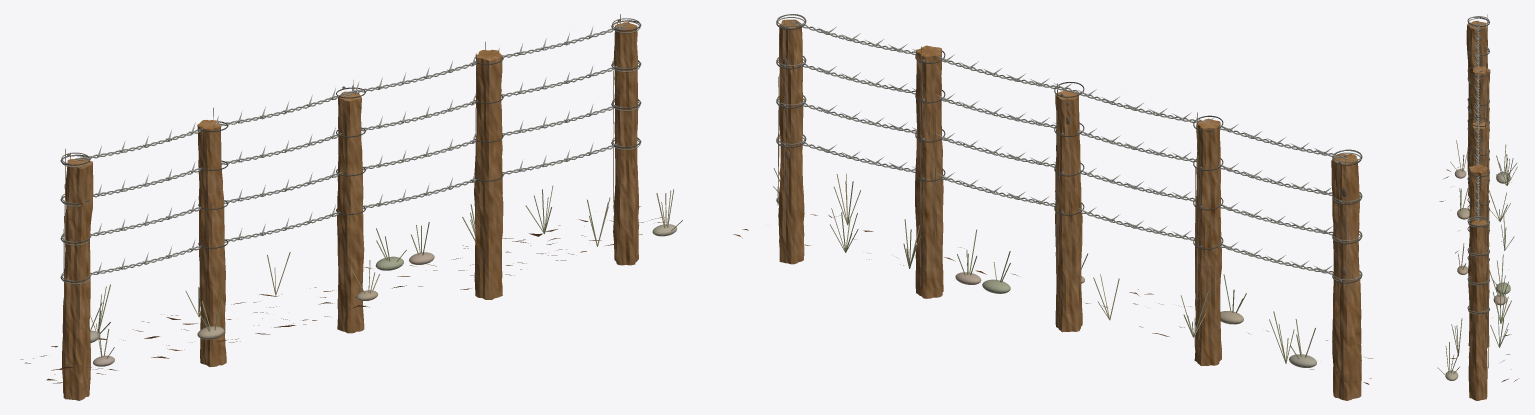
The model's file is cerca_arame_farpado_3D.glb.
3 renders of one model, left to right at view 1: azimuth 30°, elevation 25°; view 2: azimuth 150°, elevation 25°; view 3: azimuth 270°, elevation 25°, orthographic. The views are drawn at different scales.
Parts seen in each view (by area): view 1: Post_04, Post_01, Post_03, Post_02, Post_05, GroundBase_DirtPatch; view 2: Post_04, Post_01, Post_02, Post_03, Post_05; view 3: Post_05, Post_04, Post_01, Post_02, Post_03, SertaoStone_12, BarkGroove_05_06, SertaoStone_00, SertaoStone_10, SertaoStone_04, SertaoStone_06, BarkGroove_05_01 (+3 smaller).
Boxes of the visible parts, left/top/right/bottom form: Post_04: left=474, top=49, right=503, bottom=299; Post_01: left=62, top=158, right=93, bottom=400; Post_03: left=337, top=91, right=364, bottom=333; Post_02: left=197, top=119, right=226, bottom=366; Post_05: left=613, top=22, right=638, bottom=265; GroundBase_DirtPatch: left=20, top=206, right=665, bottom=383; Post_04: left=915, top=45, right=943, bottom=298; Post_01: left=1331, top=154, right=1361, bottom=400; Post_02: left=1194, top=118, right=1221, bottom=365; Post_03: left=1055, top=90, right=1082, bottom=332; Post_05: left=778, top=19, right=804, bottom=264; Post_05: left=1468, top=220, right=1487, bottom=400; Post_04: left=1468, top=164, right=1489, bottom=347; Post_01: left=1466, top=20, right=1489, bottom=197; Post_02: left=1470, top=66, right=1490, bottom=246; Post_03: left=1471, top=121, right=1489, bottom=238; SertaoStone_12: left=1496, top=282, right=1510, bottom=294; BarkGroove_05_06: left=1485, top=232, right=1486, bottom=353; SertaoStone_00: left=1496, top=171, right=1510, bottom=183; SertaoStone_10: left=1457, top=208, right=1469, bottom=219; SertaoStone_04: left=1445, top=370, right=1458, bottom=380; SertaoStone_06: left=1493, top=294, right=1506, bottom=305; BarkGroove_05_01: left=1483, top=266, right=1484, bottom=360.
Size of the model in its own units: 4.61 by 1.73 by 0.7037.
